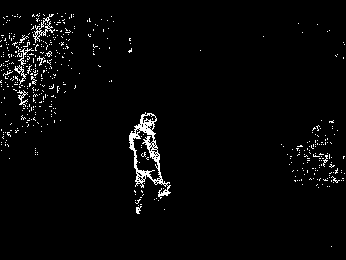person: (128, 110, 171, 214)
